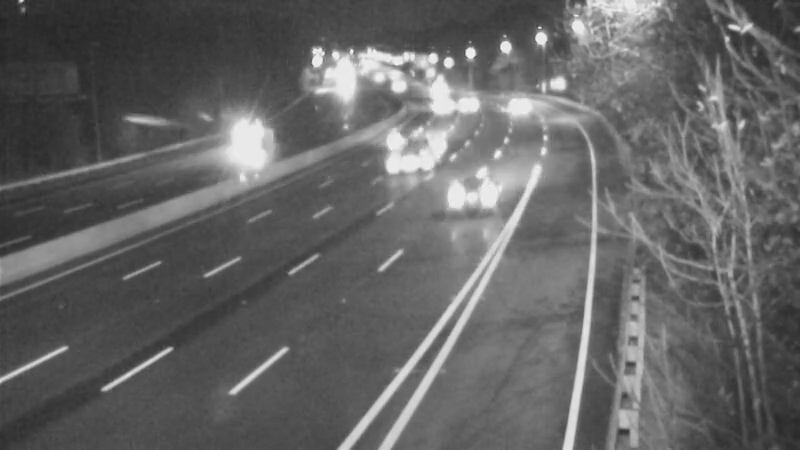vehicle: (379, 112, 459, 192), (434, 159, 514, 239), (410, 77, 460, 127), (438, 76, 488, 126), (490, 80, 540, 130), (371, 107, 421, 157), (229, 109, 279, 159)
